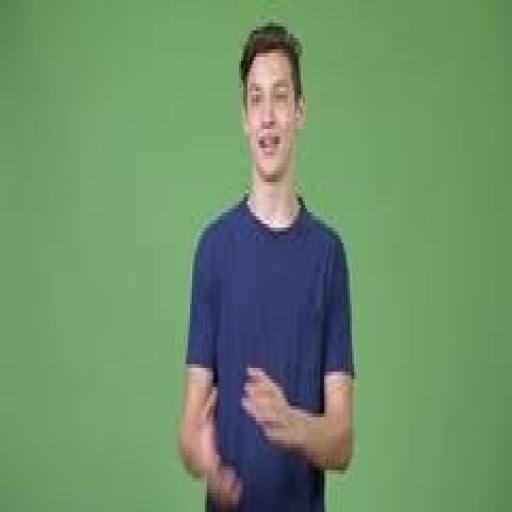clapping: (177, 19, 356, 508)
